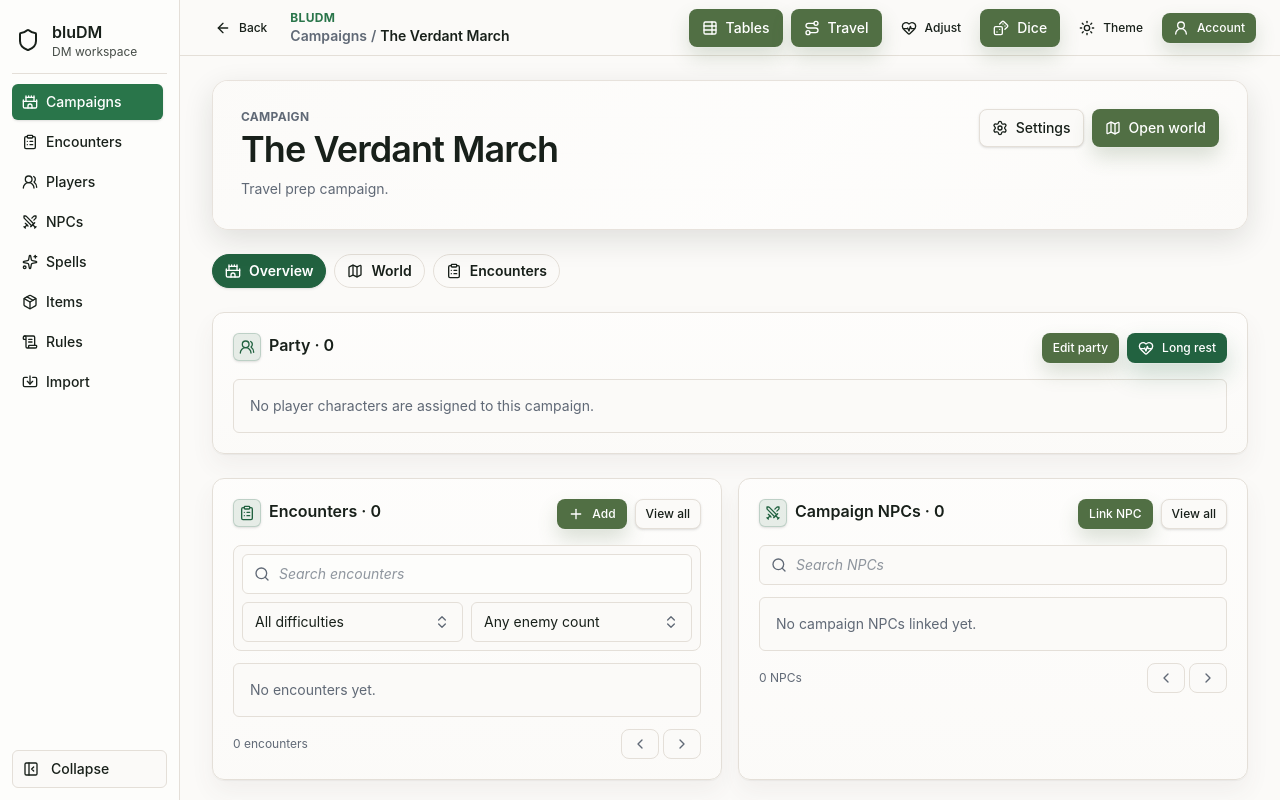
Test: CampaignDetailPage travel › renders encounters when manual encounter rolls have no roll detail
The width and height of the screenshot is (1280, 800).
Step 1. Click the button "Travel" → (836, 28), box 791,8 -> 882,46
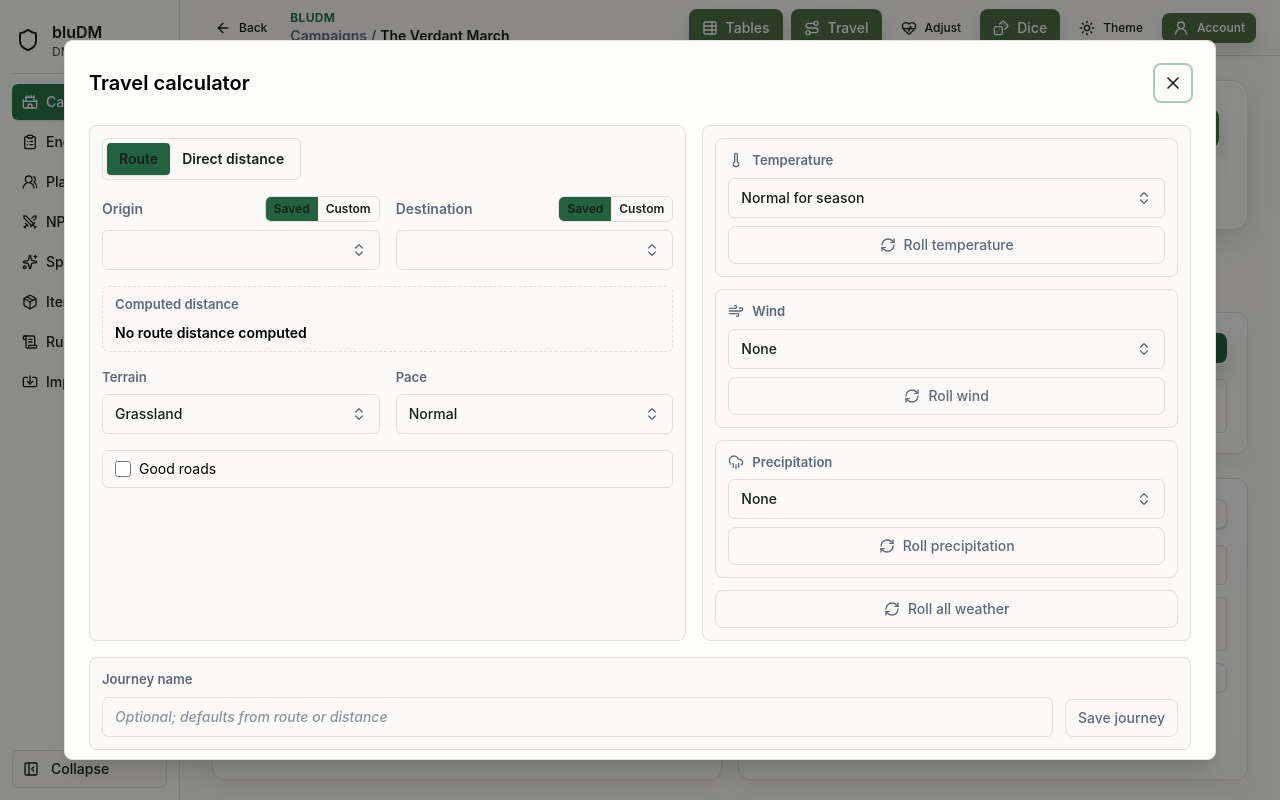
Step 2. Click the button "Direct distance" → (233, 159), box 170,143 -> 296,175
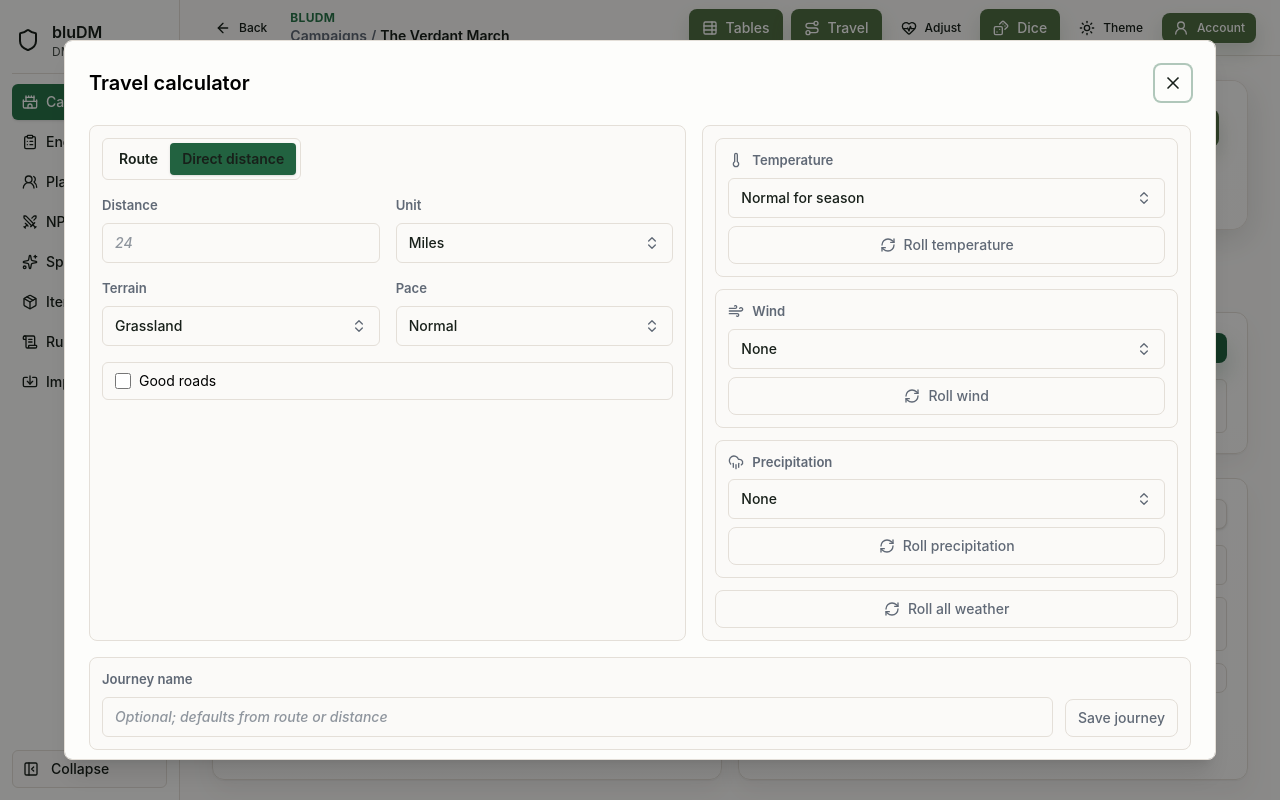
Step 3. Type "12" into the number field labelled "Distance" → (241, 243), box 102,223 -> 380,263
(page scrolled)
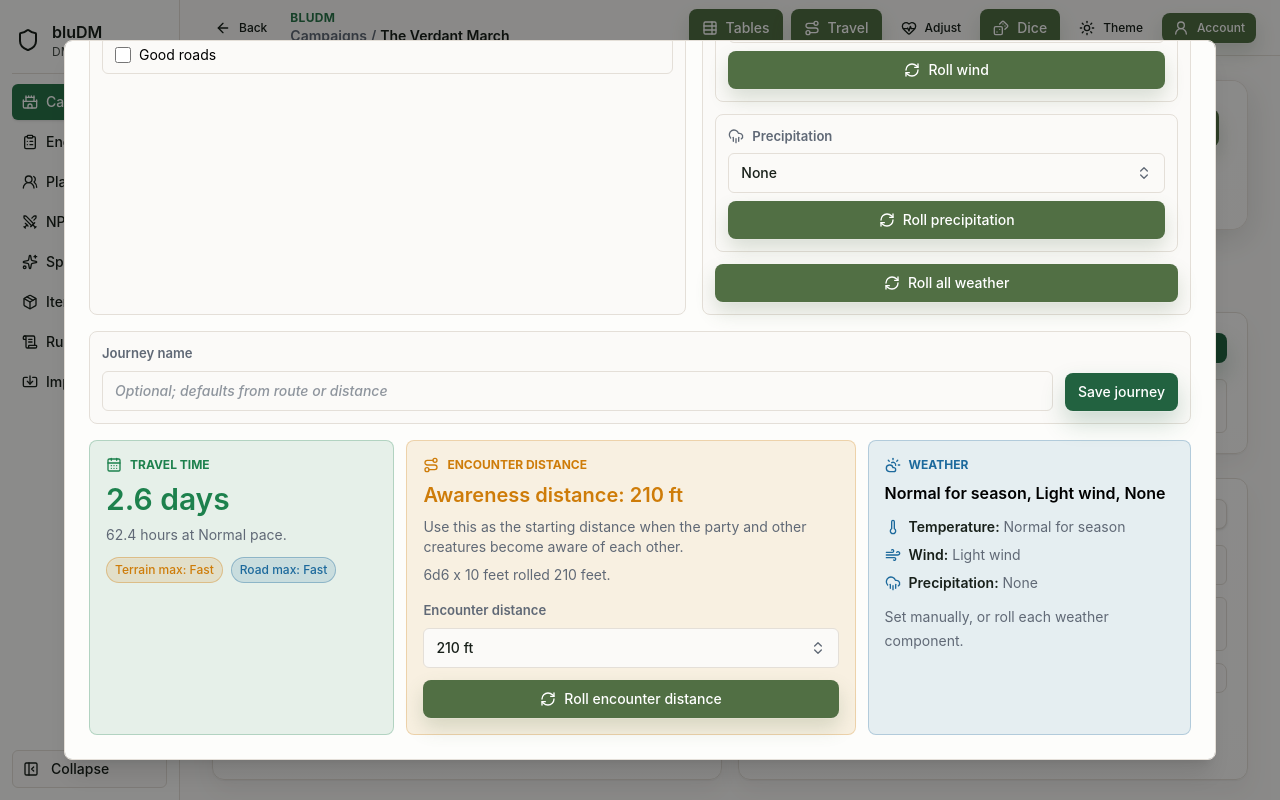
Expected: the text "Awareness distance: 210 ft" is shown, 423,483 -> 683,507
Expected: the text "Use this as the starting distance when the party and other creatures become aware of each other." is shown, 423,518 -> 806,555
